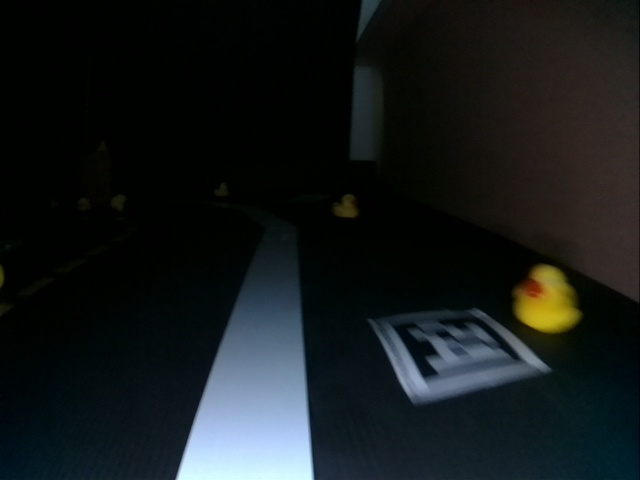Duckie: (513, 266, 579, 332), (335, 195, 360, 217), (112, 195, 127, 211), (79, 198, 89, 210), (219, 184, 228, 197)
QR code: (377, 311, 543, 394)
